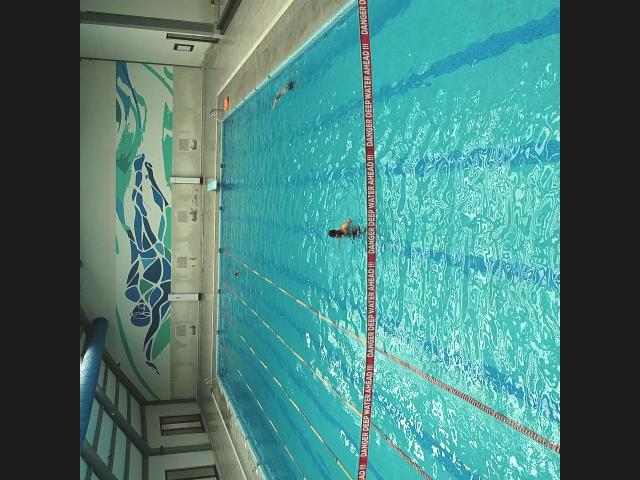swimming: (326, 219, 356, 241), (266, 81, 296, 102)
